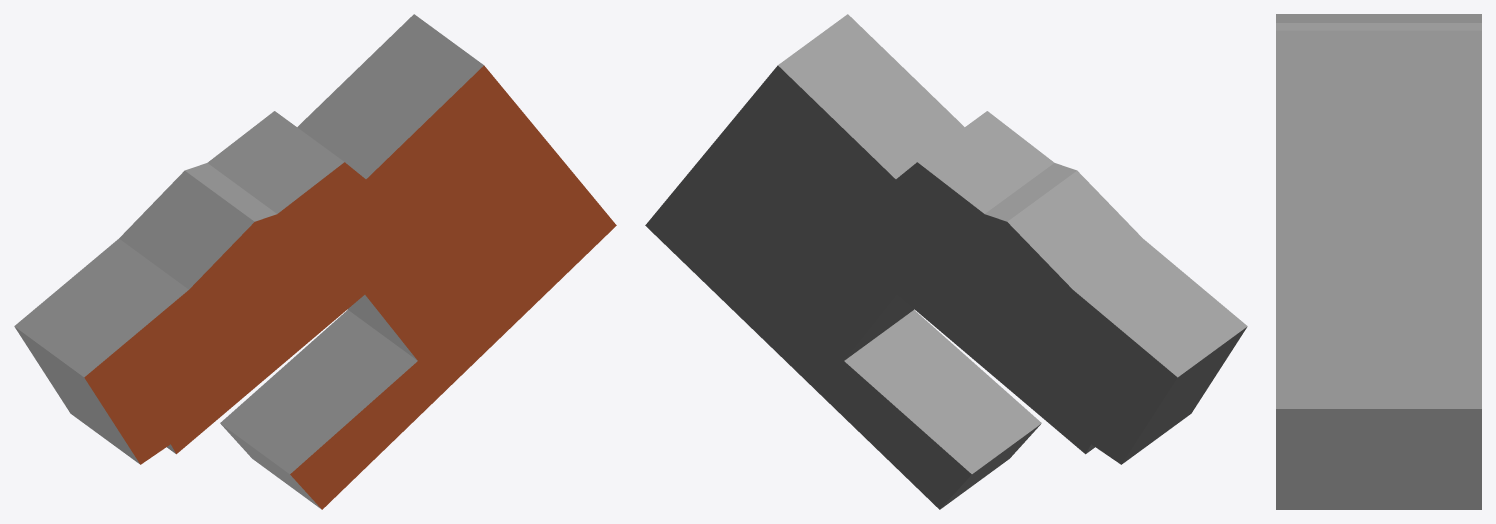
Rendered from construction_5738_assumed_A_Casa_h6m.obj.
The picture shows the model from 3 angles, left to right: view 1: azimuth 30°, elevation 25°; view 2: azimuth 150°, elevation 25°; view 3: azimuth 270°, elevation 25°; orthographic projection. The views are drawn at different scales.
Parts seen in each view (by area): view 1: construction_5738_assumed_A_Casa; view 2: construction_5738_assumed_A_Casa; view 3: construction_5738_assumed_A_Casa.
Part boxes in pixels (bbox=[...]): construction_5738_assumed_A_Casa: bbox=[14, 14, 616, 509]; construction_5738_assumed_A_Casa: bbox=[645, 14, 1247, 509]; construction_5738_assumed_A_Casa: bbox=[1276, 14, 1481, 509].
Bounding box in the file's own units: 26.34 × 19.15 × 6.
